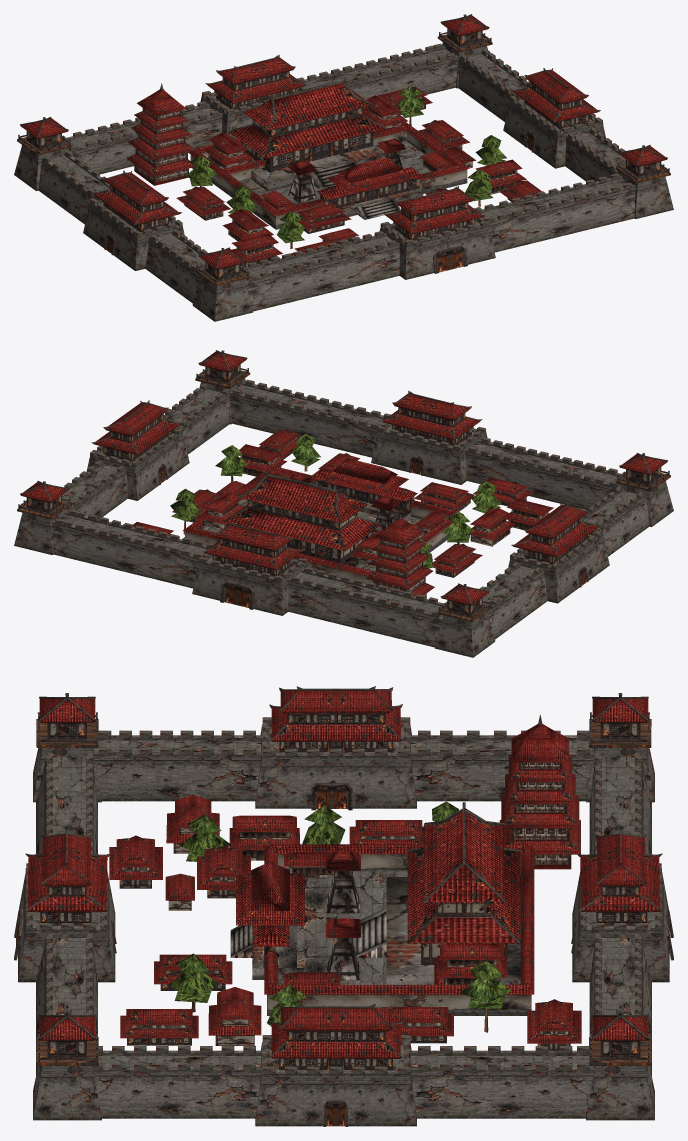
File: CASTLE_CHAY_red.fbx
3 renders of one model, top to bottom at view 1: azimuth 30°, elevation 25°; view 2: azimuth 150°, elevation 25°; view 3: azimuth 270°, elevation 25°, orthographic. The views are drawn at different scales.
Parts seen in each view (by area): view 1: polySurface22449_lambert26_0.005; view 2: polySurface22449_lambert26_0.005; view 3: polySurface22449_lambert26_0.005.
Part boxes in pixels (x1,y1,x2,y2): polySurface22449_lambert26_0.005: (14,14,673,321); polySurface22449_lambert26_0.005: (14,350,673,657); polySurface22449_lambert26_0.005: (14,686,673,1126).
Size of the model in its own units: 39296 by 7353 by 30428.
